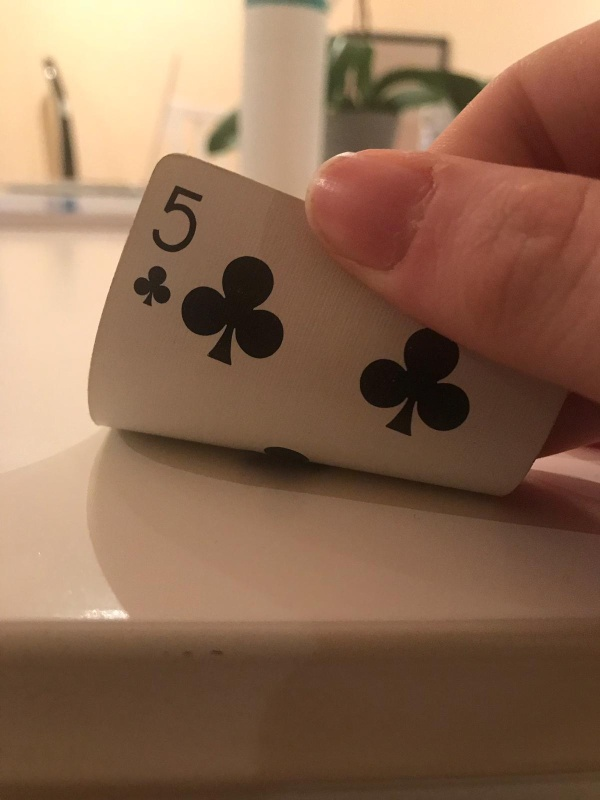C5: (127, 182, 200, 313)
